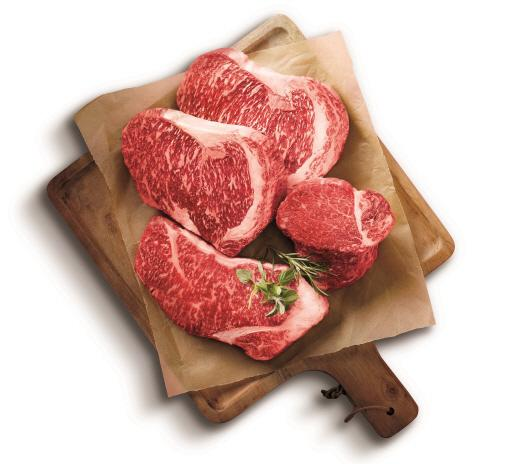beef: (111, 157, 273, 262), (97, 76, 234, 185), (229, 129, 329, 210)
